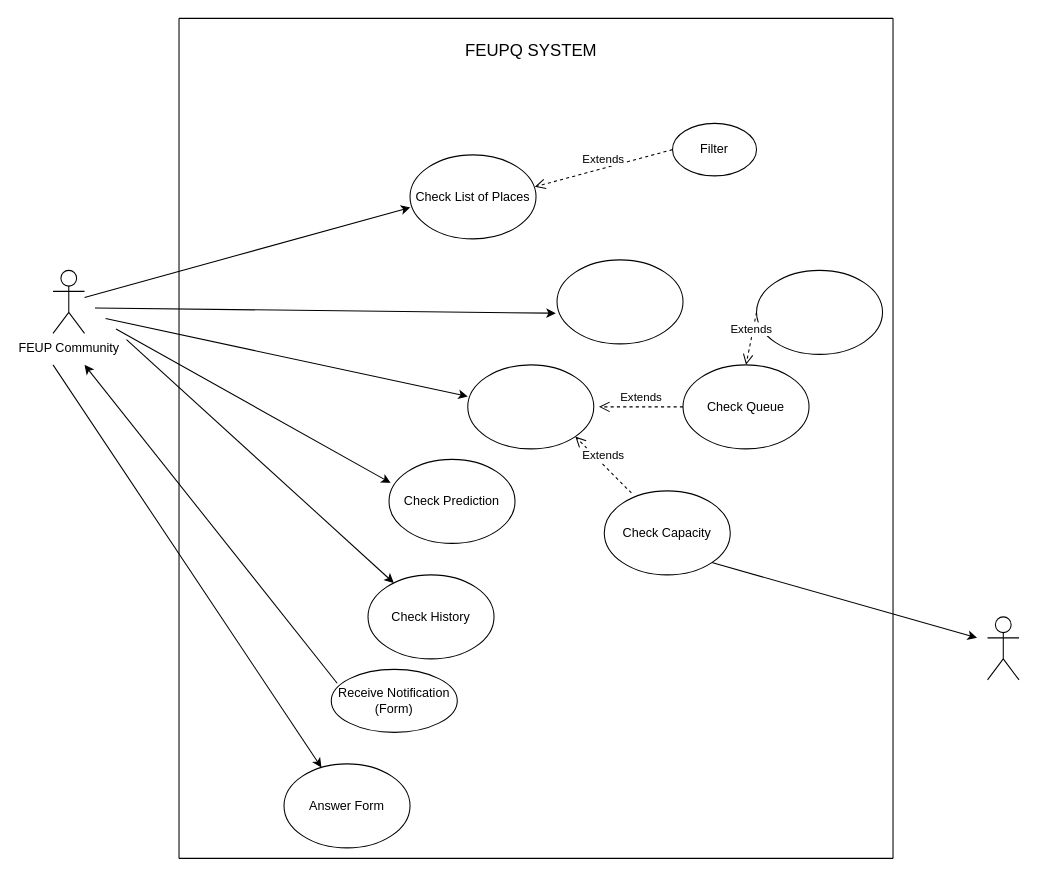
This 1062x878 diagram has some shape labels left out. The centre of each missing label's shape, as x and y in pixels:
"Capacity API's" goes at (1002,648).
"Check Place Current State" goes at (530,406).
"Comment" goes at (619,301).
"Update Queue" goes at (819,311).
